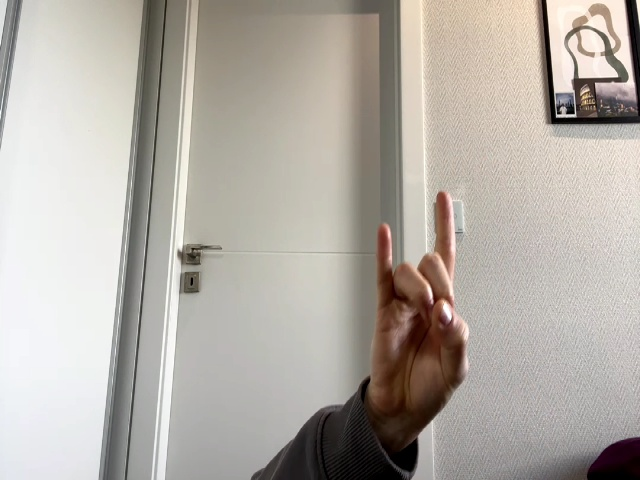Y: (370, 192, 469, 422)
